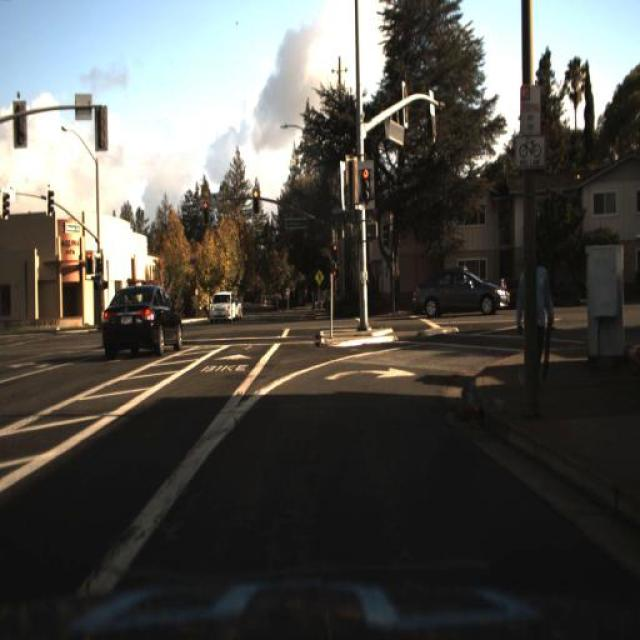car: (100, 280, 184, 360), (408, 264, 514, 324), (206, 292, 236, 323)
trafficLight: (516, 245, 554, 395)
trafficLight-RedLeft: (358, 162, 373, 207), (250, 182, 262, 214), (329, 235, 340, 264)
trafficLight-Yellow: (198, 194, 211, 222), (84, 248, 95, 278)
